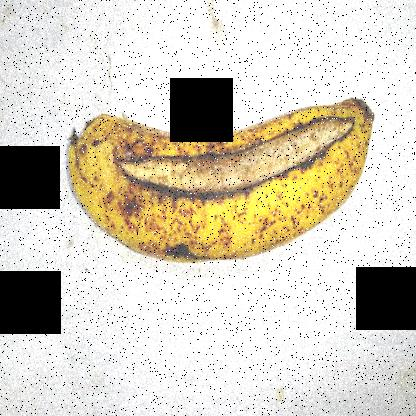ripe: (63, 96, 377, 274)
rotten: (129, 94, 355, 210)
